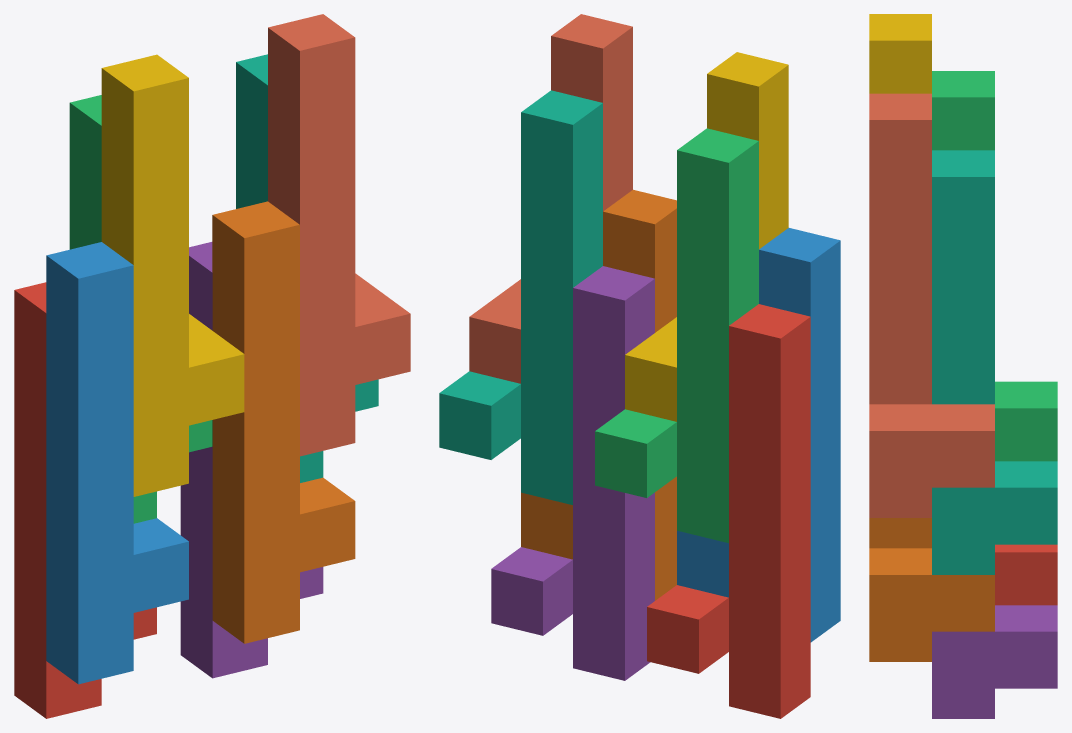
File: tiling.obj
3 renders of one model, left to right at view 1: azimuth 30°, elevation 25°; view 2: azimuth 150°, elevation 25°; view 3: azimuth 270°, elevation 25°, orthographic. The views are drawn at different scales.
Parts seen in each view (by area): view 1: copy_1_domain_2, copy_1_domain_6, copy_1_domain_4, copy_1_domain_8, copy_1_domain_1, copy_1_domain_5, copy_1_domain_3, copy_1_domain_7; view 2: copy_1_domain_1, copy_1_domain_3, copy_1_domain_7, copy_1_domain_5, copy_1_domain_2, copy_1_domain_4, copy_1_domain_8, copy_1_domain_6; view 3: copy_1_domain_8, copy_1_domain_7, copy_1_domain_6, copy_1_domain_5, copy_1_domain_3, copy_1_domain_4, copy_1_domain_1.
Boxes of the visible parts, <box> form: copy_1_domain_2: <box>46,242,188,684</box>; copy_1_domain_6: <box>212,201,355,643</box>; copy_1_domain_4: <box>101,54,244,496</box>; copy_1_domain_8: <box>268,14,410,456</box>; copy_1_domain_1: <box>14,282,156,718</box>; copy_1_domain_5: <box>180,242,323,678</box>; copy_1_domain_3: <box>69,95,212,523</box>; copy_1_domain_7: <box>236,54,378,482</box>; copy_1_domain_1: <box>647,304,810,718</box>; copy_1_domain_3: <box>595,128,758,543</box>; copy_1_domain_7: <box>439,90,602,504</box>; copy_1_domain_5: <box>491,266,654,680</box>; copy_1_domain_2: <box>677,228,840,642</box>; copy_1_domain_4: <box>625,52,788,421</box>; copy_1_domain_8: <box>469,14,632,383</box>; copy_1_domain_6: <box>521,189,676,600</box>; copy_1_domain_8: <box>869,93,994,517</box>; copy_1_domain_7: <box>932,150,1057,574</box>; copy_1_domain_6: <box>869,518,994,661</box>; copy_1_domain_5: <box>932,605,1057,718</box>; copy_1_domain_3: <box>932,71,1057,461</box>; copy_1_domain_4: <box>869,14,931,93</box>; copy_1_domain_1: <box>995,544,1057,605</box>.
Size of the model in its own units: 6 by 11 by 3.
